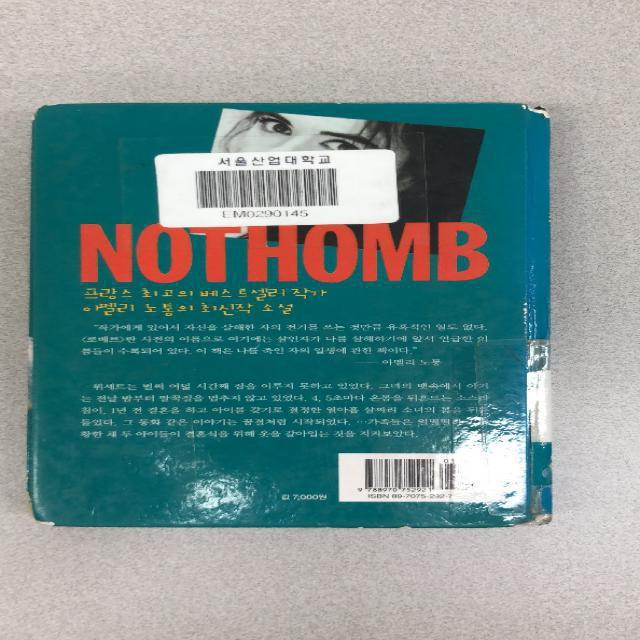Ripped: (514, 99, 554, 135)
Wornout: (22, 469, 56, 530), (29, 97, 76, 127), (23, 333, 40, 411), (501, 514, 557, 529), (398, 521, 415, 533), (352, 521, 369, 532)
